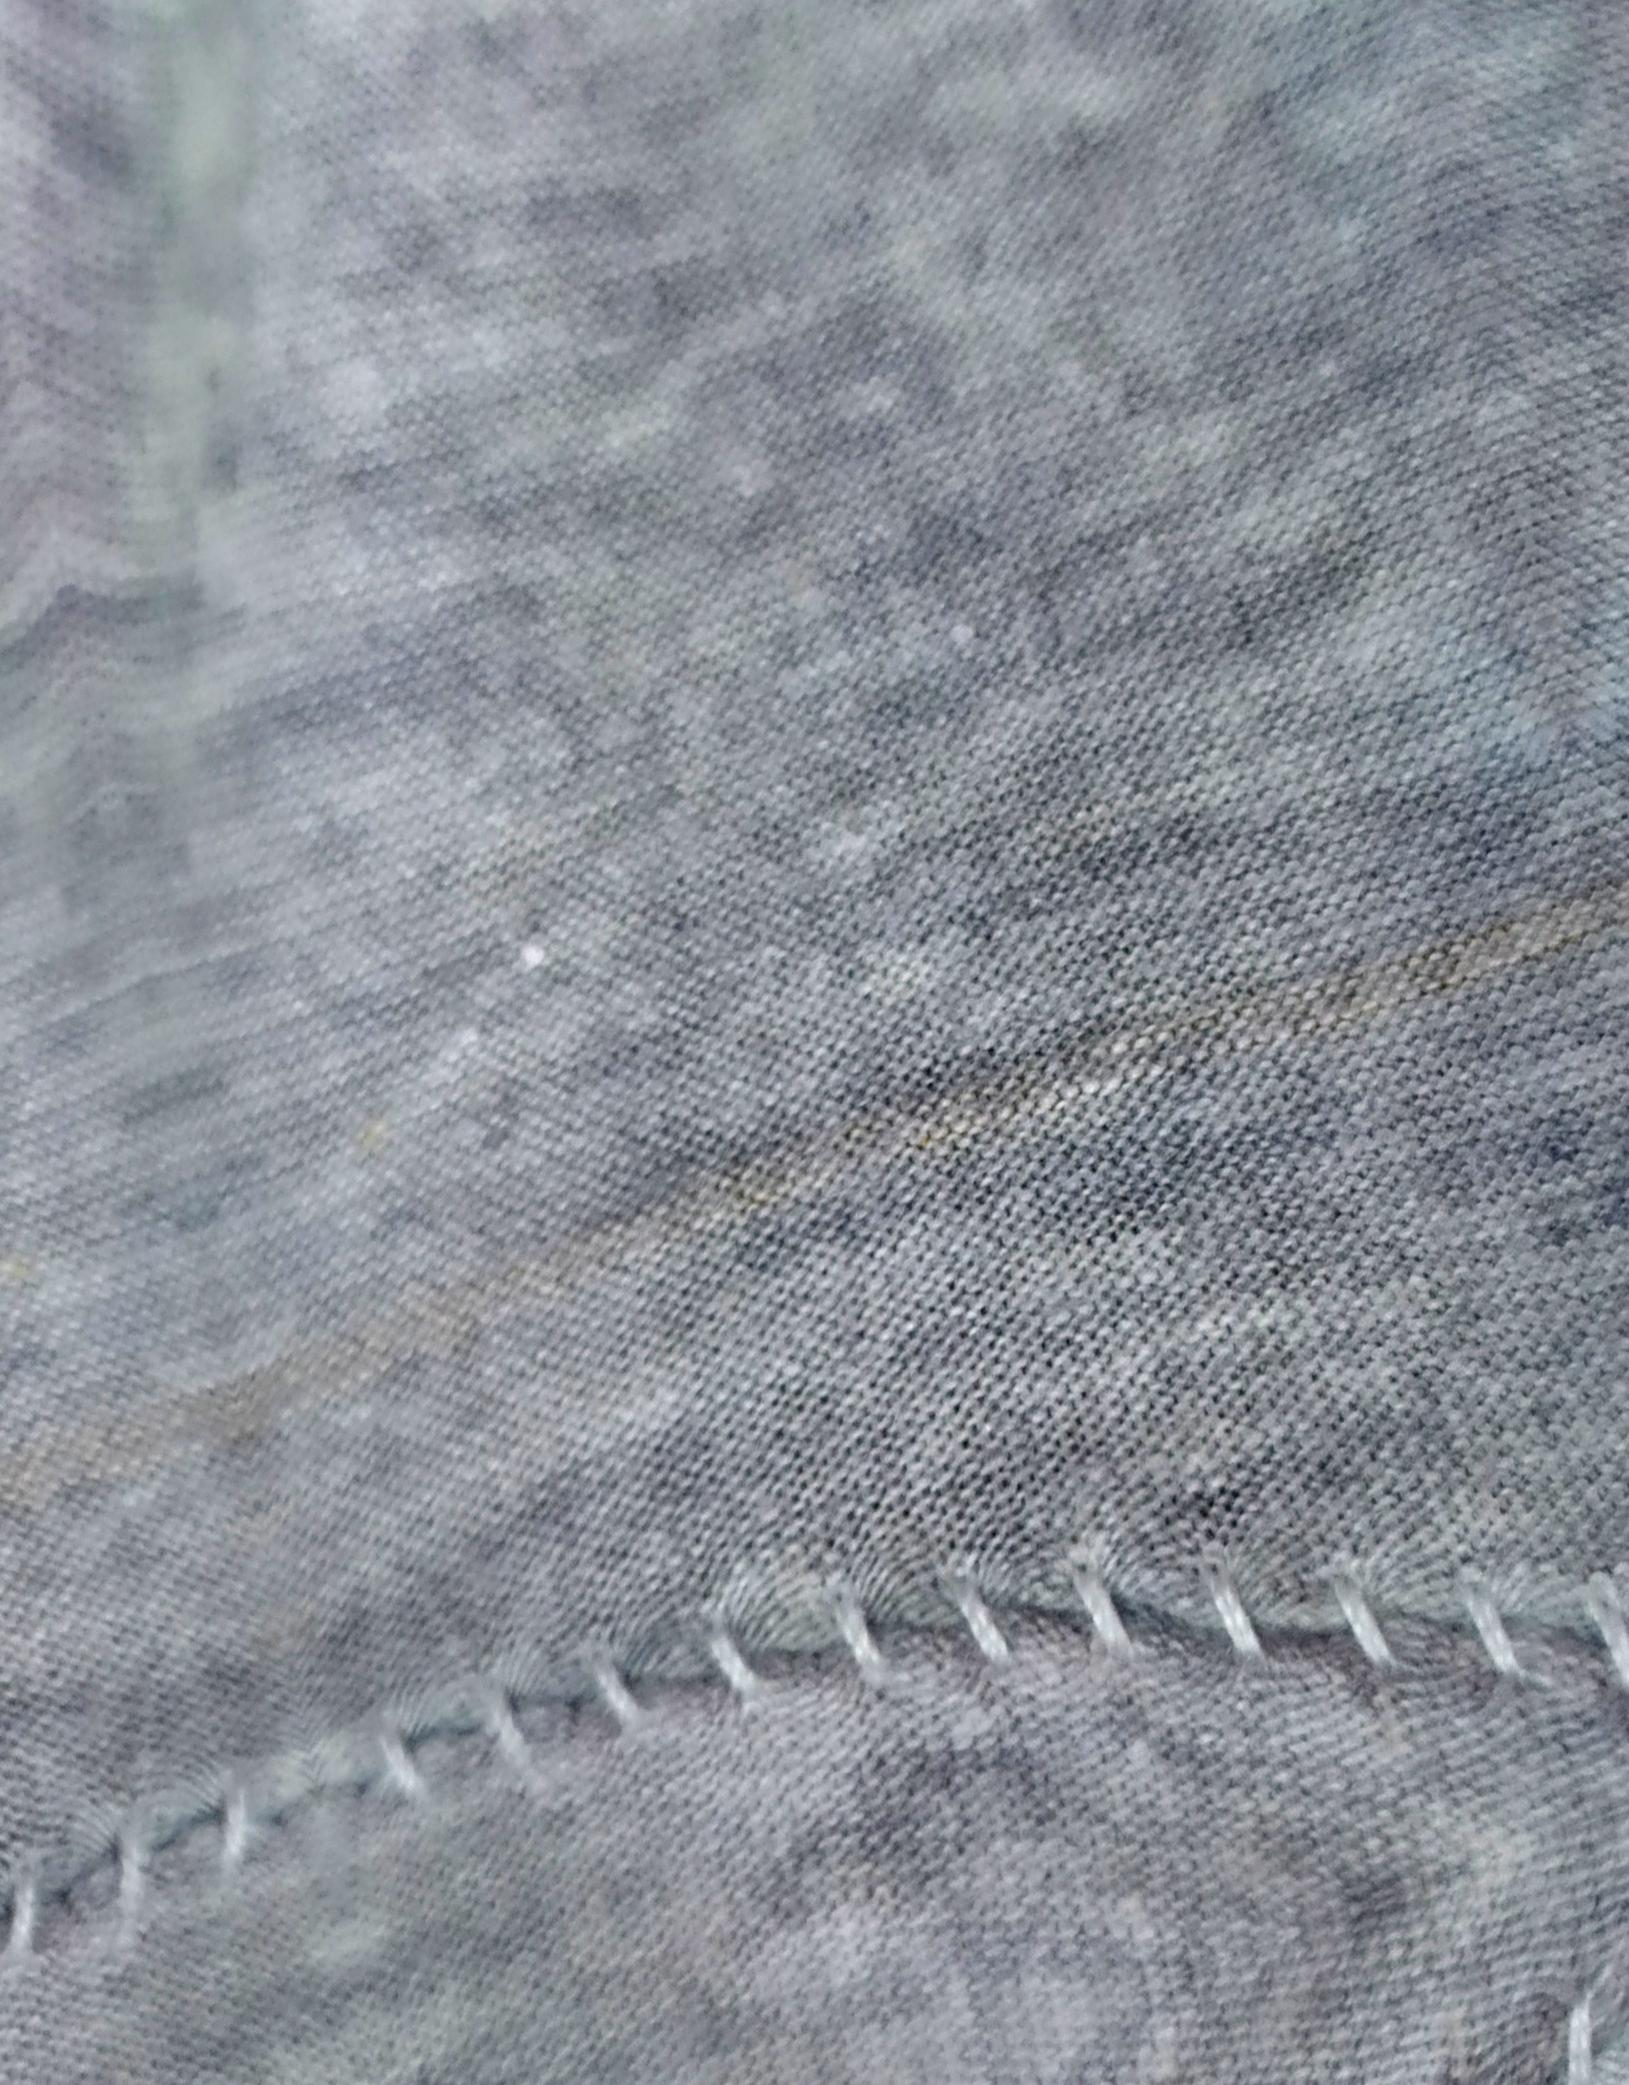slub: (12, 1555, 1624, 1992)
